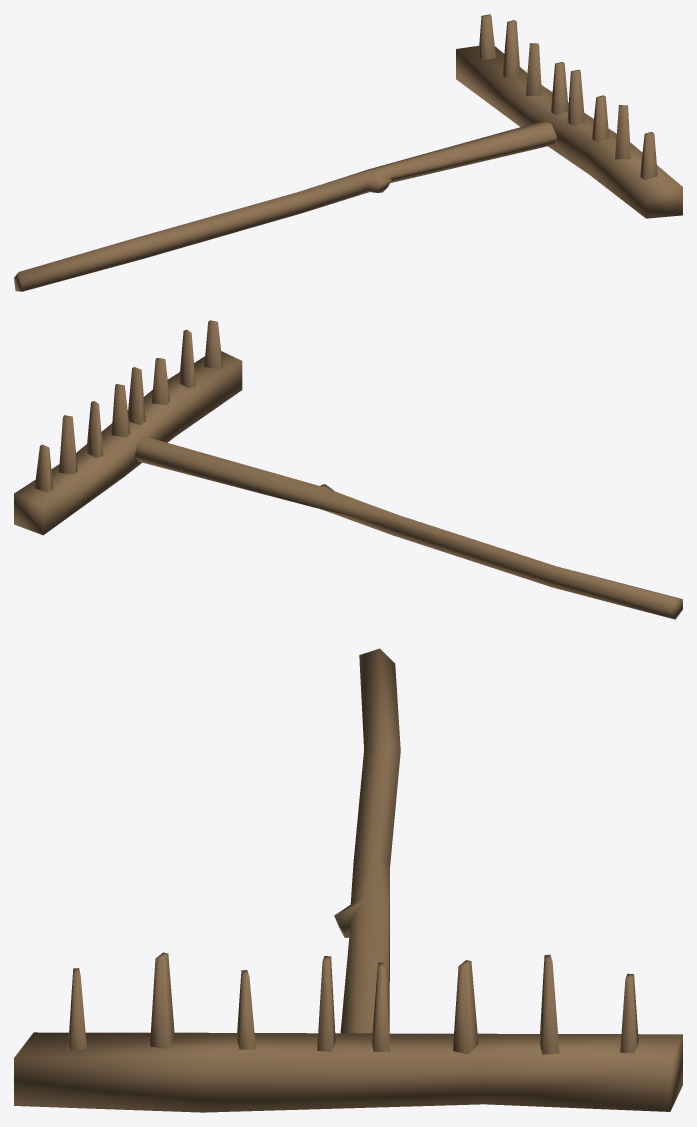
The model's file is rpgpp_ag_rake_01.fbx.
The picture shows the model from 3 angles, top to bottom: view 1: azimuth 30°, elevation 25°; view 2: azimuth 150°, elevation 25°; view 3: azimuth 270°, elevation 25°; orthographic projection. The views are drawn at different scales.
Parts seen in each view (by area): view 1: rpgpp_ag_rake_01; view 2: rpgpp_ag_rake_01; view 3: rpgpp_ag_rake_01.
Boxes of the visible parts, bbox=[...] form: rpgpp_ag_rake_01: bbox=[14, 14, 682, 291]; rpgpp_ag_rake_01: bbox=[14, 320, 682, 619]; rpgpp_ag_rake_01: bbox=[14, 648, 682, 1112].
Bounding box in the file's own units: 1.06 × 0.1829 × 0.6492.
